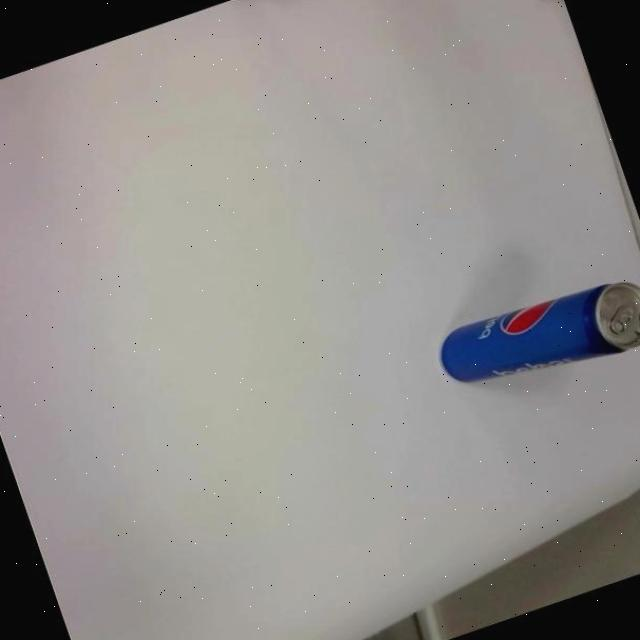debris: (429, 263, 640, 410)
